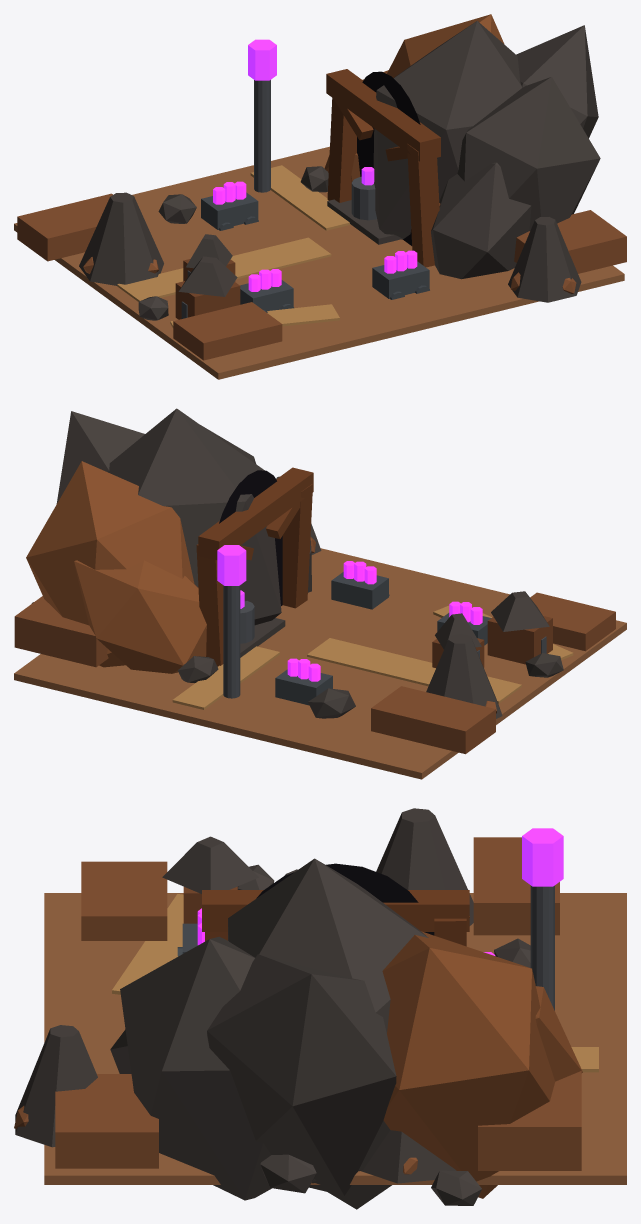
Rendered from mine-region-detailed.glb.
3 views of the same model, one above another, from view 1: azimuth 30°, elevation 25°; view 2: azimuth 150°, elevation 25°; view 3: azimuth 270°, elevation 25° (orthographic). The views are drawn at different scales.
Parts seen in each view (by area): view 1: Deepstone quarry floor, Grand Mine mountain mass 1, Grand Mine mountain mass 2, Grand Mine mountain mass 5, Deepstone spoil heap 1, Grand Mine mountain mass 4, Deepstone quarry terrace 1, Deepstone spoil heap 3, Grand Mine gate lintel, Deepstone quarry terrace 3, Deepstone main haul road, Deepstone quarry terrace 2 (+20 smaller); view 2: Deepstone quarry floor, Grand Mine mountain mass 3, Grand Mine mountain mass 1, Grand Mine mountain mass 6, Deepstone quarry terrace 3, Deepstone quarry terrace 4, Grand Mine gate lintel, Deepstone main haul road, Grand Mine mountain mass 4, Deepstone spoil heap 1, Deepstone quarry terrace 1, Grand Mine gate post (+16 smaller); view 3: Deepstone quarry floor, Grand Mine mountain mass 4, Grand Mine mountain mass 3, Grand Mine mountain mass 2, Grand Mine mountain mass 1, Deepstone quarry terrace 2, Deepstone quarry terrace 1, Deepstone quarry terrace 4, Deepstone quarry terrace 3, Deepstone spoil heap 3, Deepstone spoil heap 1, Grand Mine gate lintel (+14 smaller).
Boxes of the visible parts, x1,y1,x2,y2 form: Deepstone quarry floor: [14, 146, 624, 379]; Grand Mine mountain mass 1: [373, 21, 521, 239]; Grand Mine mountain mass 2: [457, 77, 600, 230]; Grand Mine mountain mass 5: [431, 162, 531, 279]; Deepstone spoil heap 1: [79, 192, 163, 285]; Grand Mine mountain mass 4: [516, 25, 598, 138]; Deepstone quarry terrace 1: [173, 302, 282, 360]; Deepstone spoil heap 3: [508, 217, 581, 302]; Grand Mine gate lintel: [326, 69, 440, 161]; Deepstone quarry terrace 3: [17, 193, 112, 261]; Deepstone main haul road: [117, 237, 331, 301]; Deepstone quarry terrace 2: [514, 210, 626, 273]; Deepstone quarry floor: [14, 548, 626, 779]; Grand Mine mountain mass 3: [26, 461, 194, 667]; Grand Mine mountain mass 1: [108, 408, 281, 625]; Grand Mine mountain mass 6: [74, 560, 206, 673]; Deepstone quarry terrace 3: [371, 686, 495, 754]; Deepstone quarry terrace 4: [14, 596, 108, 667]; Grand Mine gate lintel: [198, 467, 313, 559]; Deepstone main haul road: [307, 638, 521, 703]; Grand Mine mountain mass 4: [56, 411, 144, 503]; Deepstone spoil heap 1: [426, 633, 502, 718]; Deepstone quarry terrace 1: [530, 592, 615, 651]; Grand Mine gate post: [282, 484, 312, 608]; Deepstone quarry floor: [44, 893, 626, 1184]; Grand Mine mountain mass 4: [207, 954, 396, 1195]; Grand Mine mountain mass 3: [382, 931, 555, 1198]; Grand Mine mountain mass 2: [120, 936, 271, 1200]; Grand Mine mountain mass 1: [228, 858, 428, 1209]; Deepstone quarry terrace 2: [55, 1074, 158, 1168]; Deepstone quarry terrace 1: [81, 861, 167, 940]; Deepstone quarry terrace 4: [478, 1071, 581, 1170]; Deepstone quarry terrace 3: [473, 837, 559, 935]; Deepstone spoil heap 3: [15, 1025, 97, 1147]; Deepstone spoil heap 1: [376, 808, 473, 925]; Grand Mine gate lintel: [202, 890, 469, 931].
Bounding box in the file's own units: 18.6 × 9.49 × 14.21.
